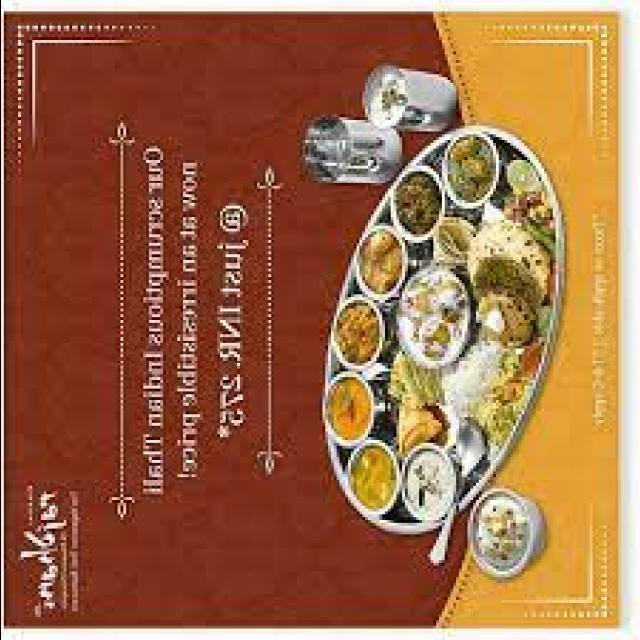curd: (398, 451, 457, 535)
dal: (345, 442, 399, 518), (320, 374, 374, 448)
papad: (450, 216, 557, 357)
raita: (399, 445, 455, 538)
rice: (395, 259, 471, 370)
roti: (448, 214, 560, 354)
sweet: (445, 132, 502, 208)
